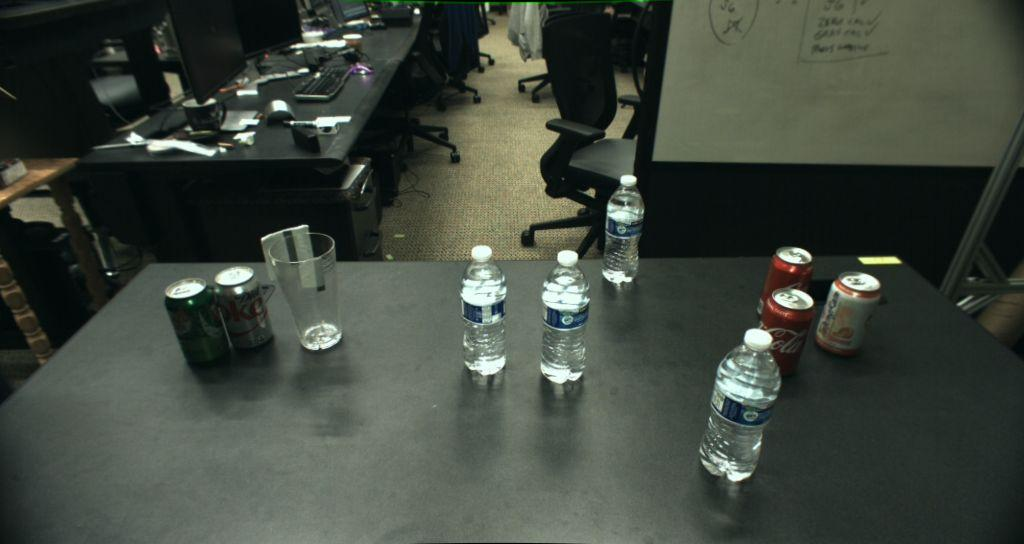can_diet_coke: (213, 265, 275, 352)
can_ginger_ale: (164, 277, 231, 364)
can_talking_rain_peach_nectarine: (815, 271, 881, 355)
water_bottle: (700, 328, 781, 482), (540, 250, 590, 384), (460, 245, 507, 376), (601, 175, 644, 283)
